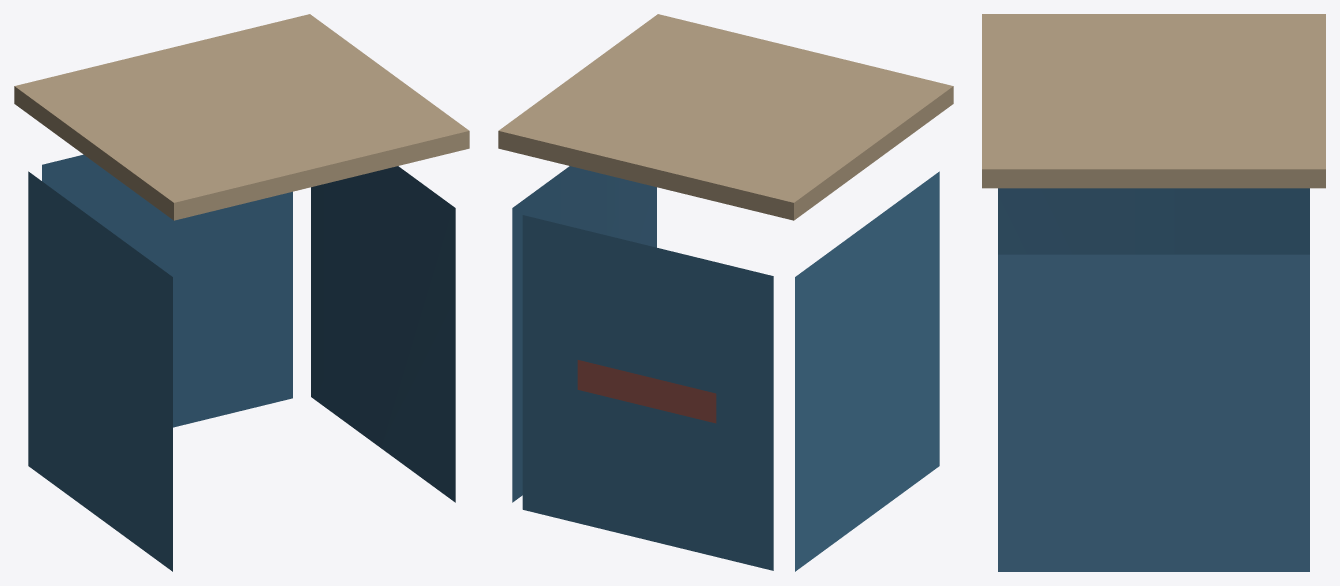
File: camtower.lod2.glb
3 views of the same model, side by side, from view 1: azimuth 30°, elevation 25°; view 2: azimuth 150°, elevation 25°; view 3: azimuth 270°, elevation 25° (orthographic). The views are drawn at different scales.
Bounding box in the file's own units: 2.78 × 3.38 × 2.6.
